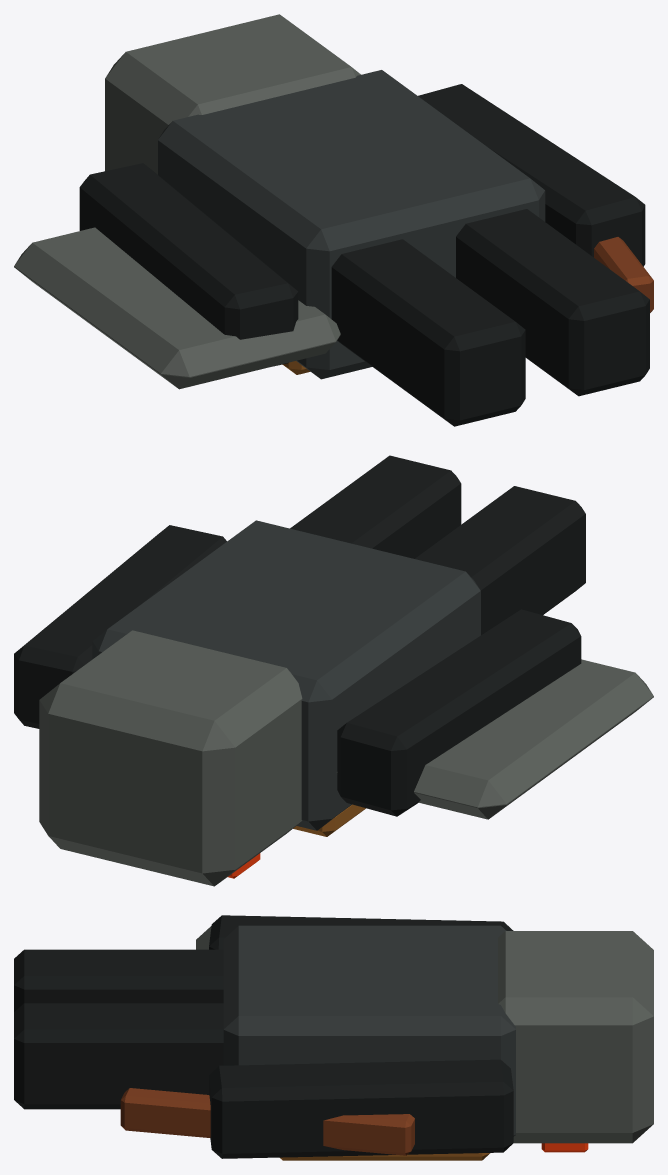
File: IroncladEnforcer.glb
3 renders of one model, top to bottom at view 1: azimuth 30°, elevation 25°; view 2: azimuth 150°, elevation 25°; view 3: azimuth 270°, elevation 25°, orthographic. The views are drawn at different scales.
Visible parts, largest first — view 1: Body, LeftLeg, RightLeg, Shield, Helmet, LeftArm, RightArm, Baton; view 2: Helmet, Body, LeftArm, Shield, LeftLeg, RightArm, RightLeg, ChestPlate; view 3: Body, Helmet, RightArm, RightLeg, LeftLeg, Baton, LeftArm, ChestPlate, Visor.
Boxes of the visible parts, bbox=[...] form: Body: bbox=[158, 70, 545, 379]; LeftLeg: bbox=[331, 239, 525, 426]; RightLeg: bbox=[456, 209, 649, 396]; Shield: bbox=[14, 227, 340, 389]; Helmet: bbox=[105, 14, 360, 174]; LeftArm: bbox=[79, 163, 298, 366]; RightArm: bbox=[418, 84, 645, 266]; Baton: bbox=[594, 237, 653, 312]; Helmet: bbox=[39, 630, 302, 886]; Body: bbox=[92, 520, 480, 830]; LeftArm: bbox=[337, 609, 581, 816]; Shield: bbox=[336, 659, 653, 819]; LeftLeg: bbox=[415, 486, 585, 634]; RightArm: bbox=[14, 525, 226, 728]; RightLeg: bbox=[290, 455, 461, 558]; ChestPlate: bbox=[293, 804, 365, 836]; Body: bbox=[223, 925, 515, 1136]; Helmet: bbox=[498, 931, 653, 1143]; RightArm: bbox=[209, 1059, 513, 1158]; RightLeg: bbox=[14, 1003, 223, 1109]; LeftLeg: bbox=[14, 949, 223, 1011]; Baton: bbox=[120, 1088, 414, 1155]; LeftArm: bbox=[209, 915, 513, 949]; ChestPlate: bbox=[280, 1153, 490, 1160]; Visor: bbox=[541, 1143, 588, 1152].
Size of the model in its own units: 6.02 by 2.09 by 7.55.
Materials: 1 (1 with a texture image).
